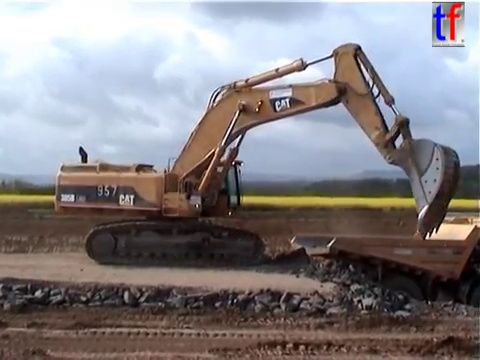excavator: (52, 40, 462, 269)
truck: (285, 210, 480, 330)
